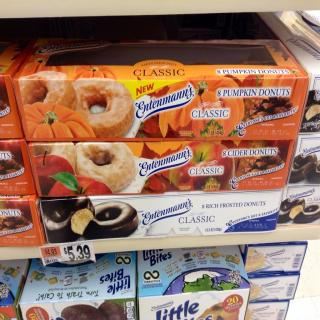Doughnut: (76, 77, 135, 137), (74, 141, 135, 191), (20, 70, 76, 112), (44, 197, 95, 243), (82, 200, 139, 237), (33, 142, 77, 166)
